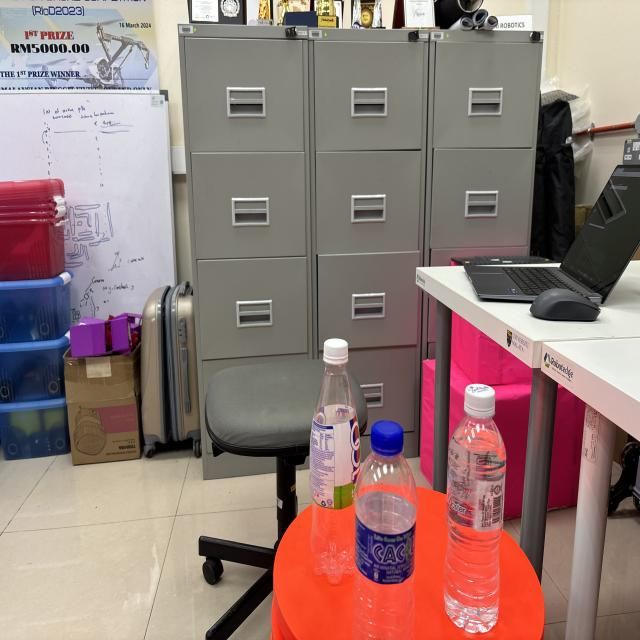plastic_bottle: (435, 374, 514, 640), (304, 330, 373, 588), (349, 409, 423, 640)
